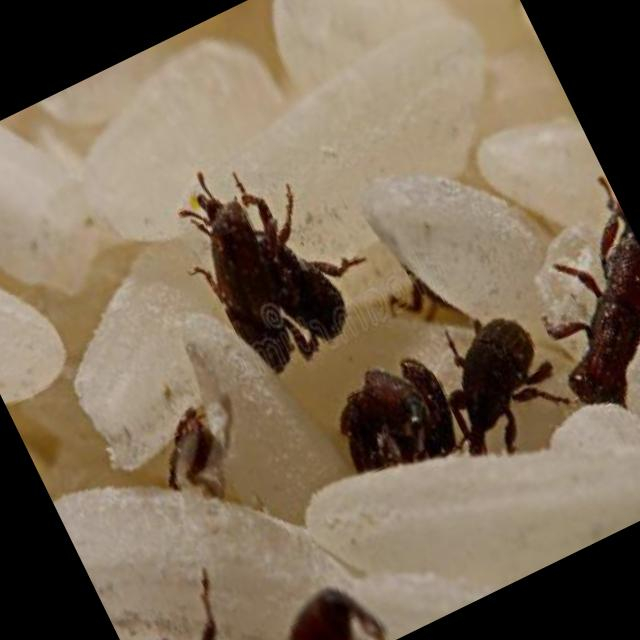rice-bug: (160, 142, 364, 382), (485, 164, 640, 430), (409, 274, 568, 462), (300, 340, 470, 510), (230, 555, 395, 640), (109, 571, 268, 640), (142, 395, 241, 498)
